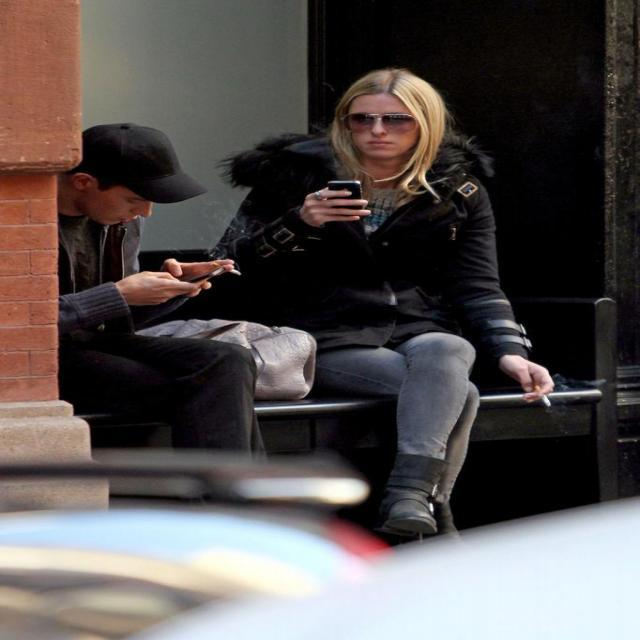cigarette: (211, 255, 268, 289), (524, 378, 556, 414)
